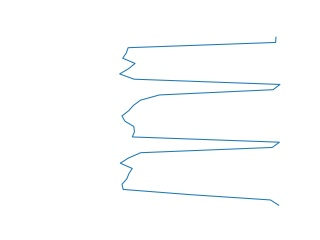majorRiverChannelBar: (117, 37, 287, 208)
